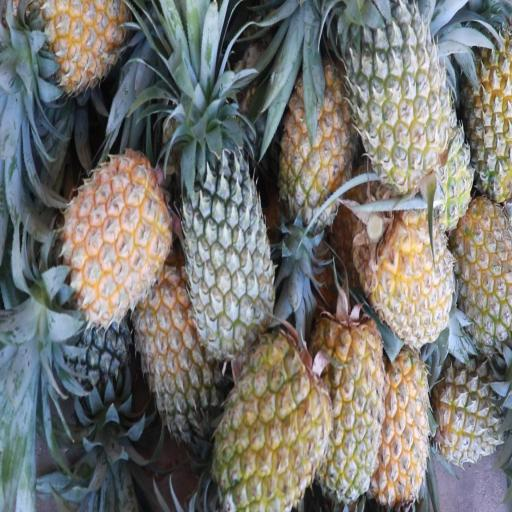------------------------------: (350, 8, 451, 183), (141, 272, 222, 433), (457, 193, 512, 337), (466, 33, 512, 195), (438, 360, 508, 458)
Pineapple - v8 v1: (217, 325, 326, 505), (68, 146, 170, 314), (317, 320, 385, 499), (287, 57, 362, 218), (372, 198, 456, 336), (39, 0, 126, 85), (381, 347, 428, 502)
